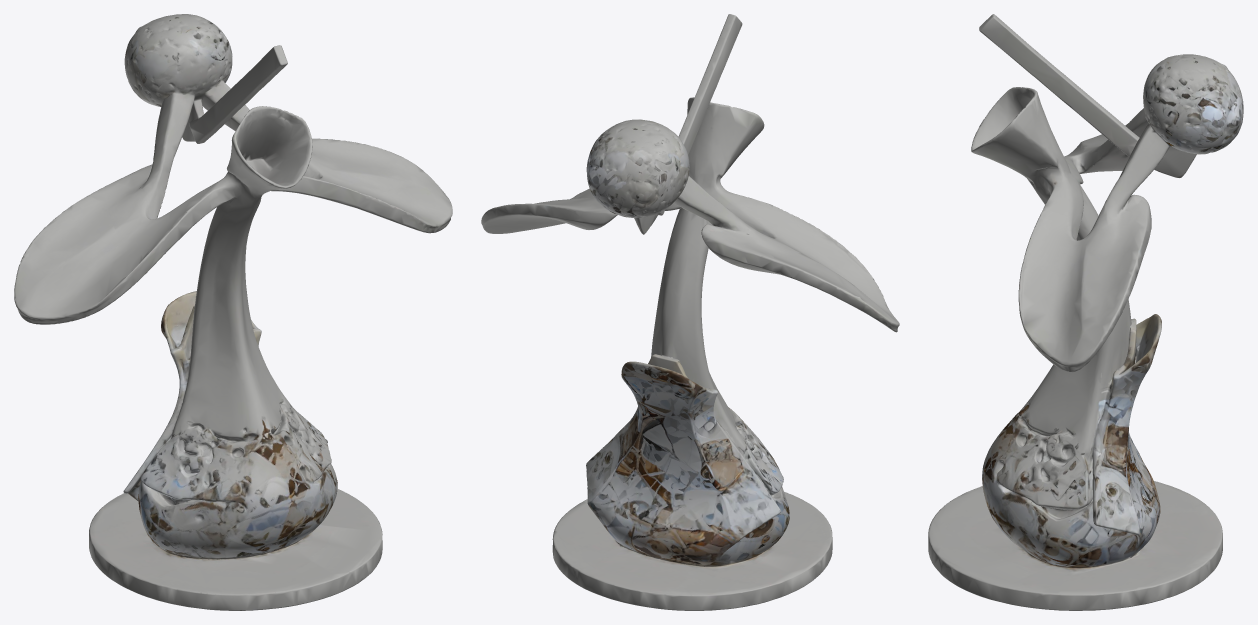
Rendered from plaza-sculpture-modern.glb.
3 renders of one model, left to right at view 1: azimuth 30°, elevation 25°; view 2: azimuth 150°, elevation 25°; view 3: azimuth 270°, elevation 25°, orthographic. The views are drawn at different scales.
Visible parts, largest first — view 1: tripo_node_202e263e-0753-4dd3-b03f-cdd2f712cbb6; view 2: tripo_node_202e263e-0753-4dd3-b03f-cdd2f712cbb6; view 3: tripo_node_202e263e-0753-4dd3-b03f-cdd2f712cbb6.
Part boxes in pixels (left/top/right/bottom): tripo_node_202e263e-0753-4dd3-b03f-cdd2f712cbb6: left=14, top=14, right=452, bottom=610; tripo_node_202e263e-0753-4dd3-b03f-cdd2f712cbb6: left=481, top=14, right=899, bottom=610; tripo_node_202e263e-0753-4dd3-b03f-cdd2f712cbb6: left=928, top=14, right=1243, bottom=610.
Bounding box in the file's own units: 2.55 × 3 × 1.6.
1 material, 1 textured.
